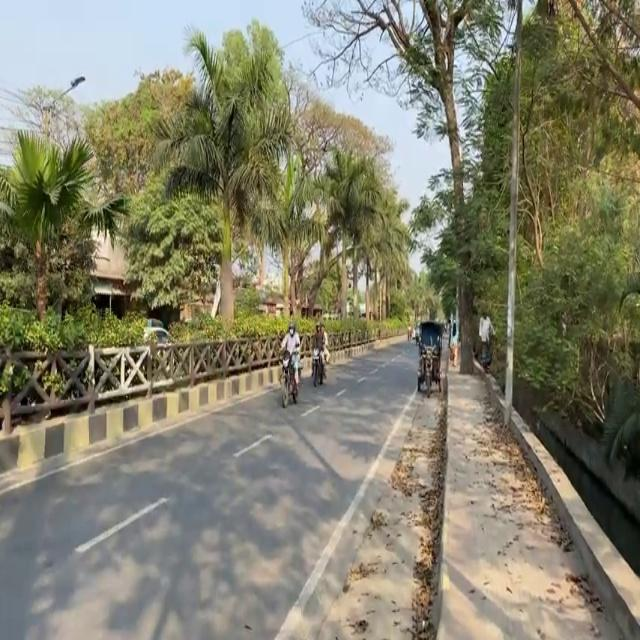Bench: (414, 320, 444, 396)
Construction-barrier: (470, 350, 639, 639), (426, 356, 449, 639)
Fallen-tree: (278, 347, 303, 407)
Garbage-bin: (279, 322, 304, 393), (309, 323, 330, 386), (477, 311, 495, 372)
Light-pole: (502, 0, 524, 428)
Pole: (0, 270, 264, 464)
Pothole: (445, 335, 639, 639)
